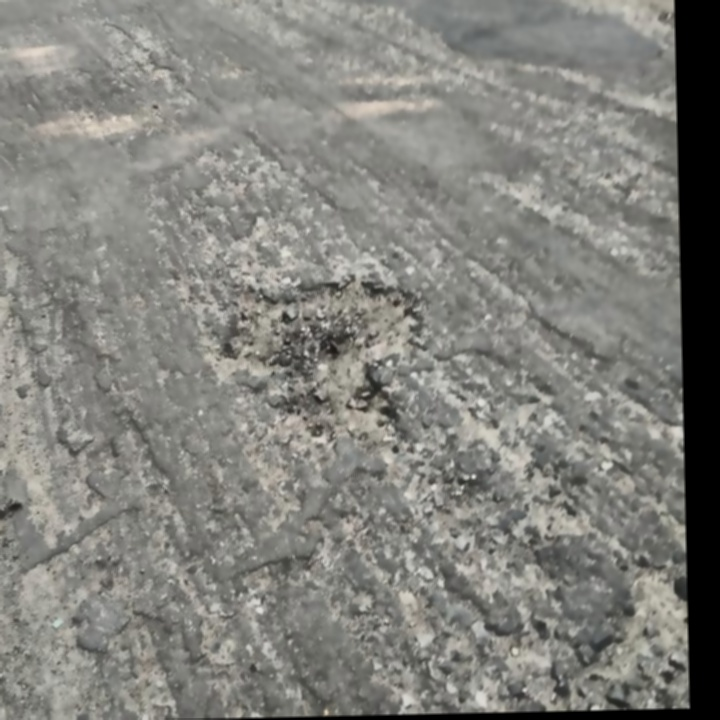pothole: (220, 266, 429, 452)
